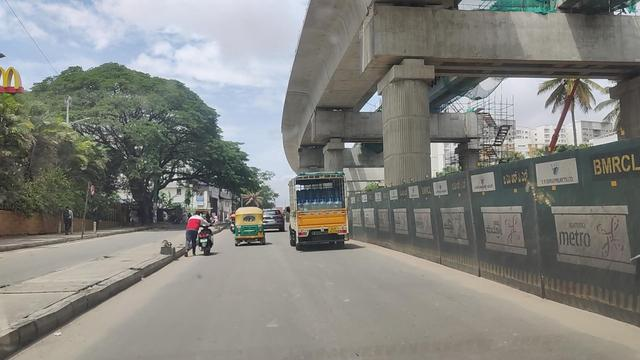HMV: (295, 170, 352, 252)
LMV: (234, 206, 266, 246)
